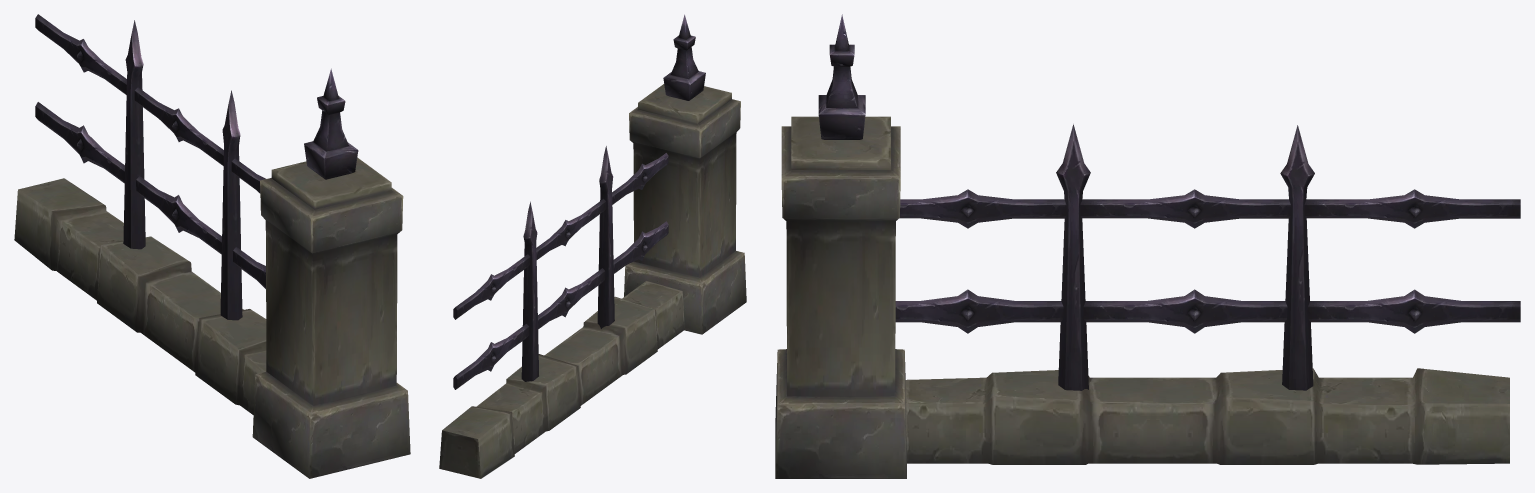
3 renders of one model, left to right at view 1: azimuth 30°, elevation 25°; view 2: azimuth 150°, elevation 25°; view 3: azimuth 270°, elevation 25°, orthographic. The views are drawn at different scales.
Size of the model in its own units: 1.32 by 4.72 by 7.3.
2 materials, 2 textured.
